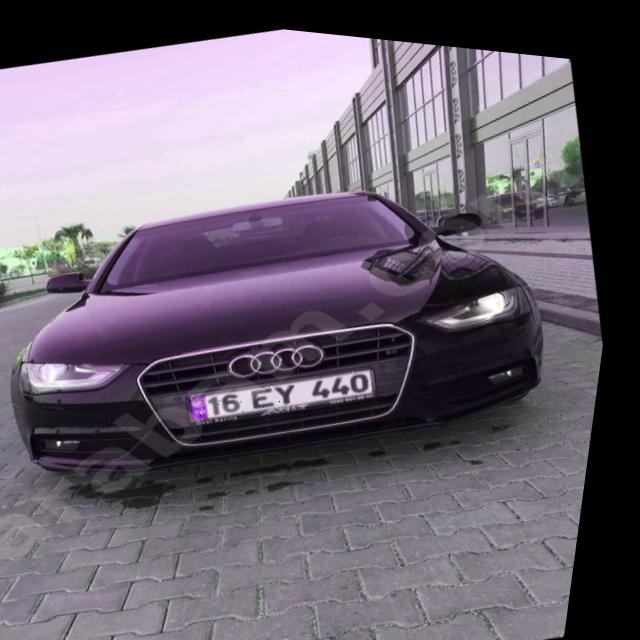license_plate: (195, 344, 387, 431)
